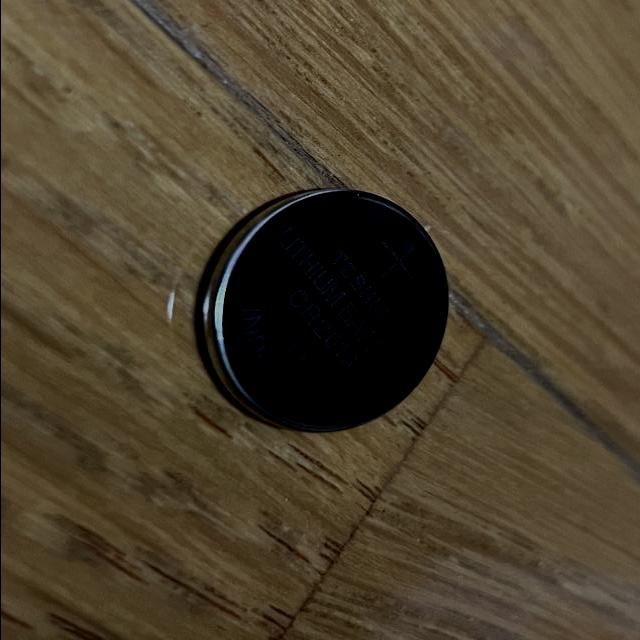COIN: (192, 185, 454, 434)
